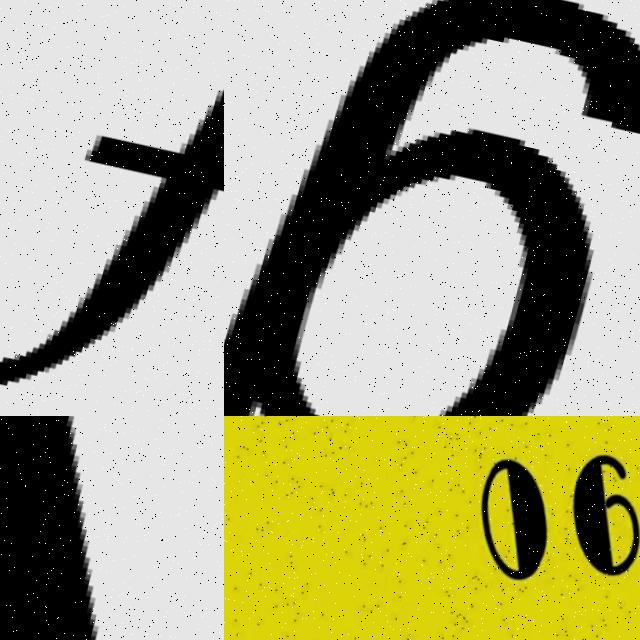0: (425, 418, 616, 640)
9: (524, 416, 640, 622)
F: (0, 91, 224, 387)
G: (224, 0, 640, 416)
V: (0, 416, 224, 640)
